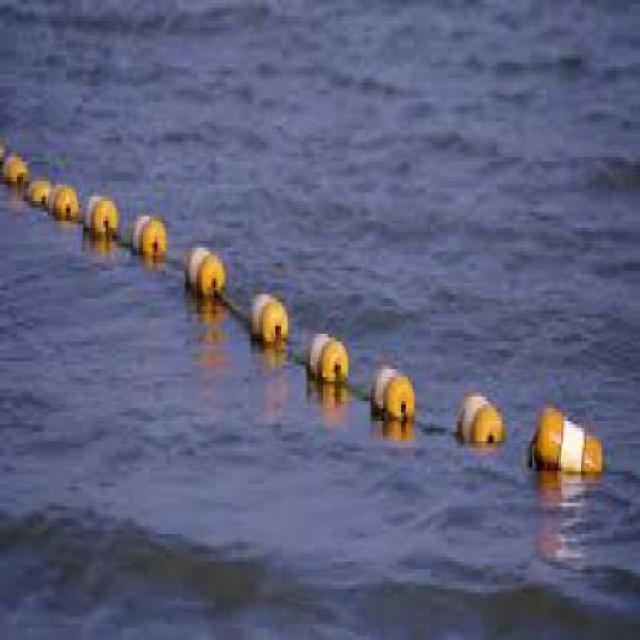buoy: (527, 386, 610, 497), (454, 366, 505, 469), (370, 334, 416, 445), (309, 315, 353, 410), (183, 225, 225, 323), (126, 197, 170, 283), (250, 283, 296, 354), (82, 178, 115, 249), (28, 166, 48, 225), (53, 178, 70, 229)
